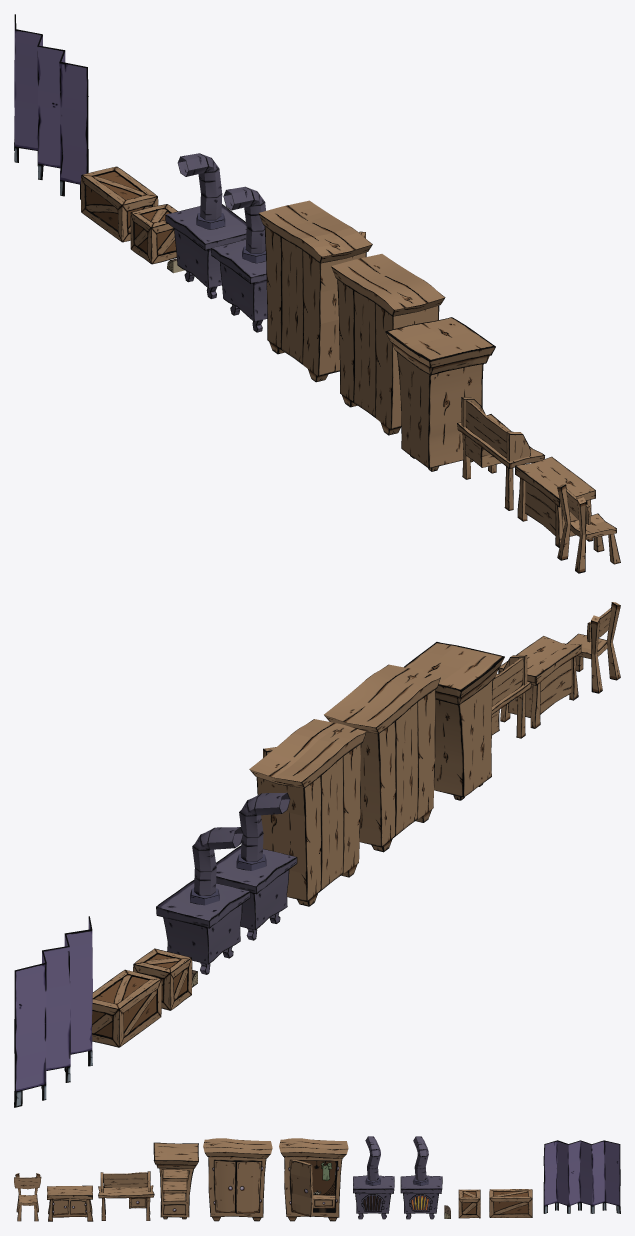
The model's file is Modularne elementy zachód test 2.fbx.
3 renders of one model, top to bottom at view 1: azimuth 30°, elevation 25°; view 2: azimuth 150°, elevation 25°; view 3: azimuth 270°, elevation 25°, orthographic. The views are drawn at different scales.
Visible parts, largest first — view 1: proptrimsheet1.004, proptrimsheet1.003, proptrimsheet1.002, proptrimsheet1.010, proptrimsheet1.007, proptrimsheet1.006, proptrimsheet1.005, proptrimsheet1.001, proptrimsheet1.008, Cube.052, proptrimsheet1.009; view 2: proptrimsheet1.004, proptrimsheet1.003, proptrimsheet1.010, proptrimsheet1.002, proptrimsheet1.007, proptrimsheet1.006, proptrimsheet1.008, proptrimsheet1.001, proptrimsheet1.009, Cube.052, proptrimsheet1.005; view 3: proptrimsheet1.010, proptrimsheet1.003, proptrimsheet1.004, proptrimsheet1.002, proptrimsheet1.007, proptrimsheet1.006, proptrimsheet1.005, proptrimsheet1.001, proptrimsheet1.008, Cube.052, proptrimsheet1.009.
Part boxes in pixels (x1,y1,x2,y2): proptrimsheet1.004: (258,200,372,382); proptrimsheet1.003: (331,254,445,435); proptrimsheet1.002: (385,317,495,471); proptrimsheet1.010: (14,14,88,199); proptrimsheet1.007: (165,153,246,298); proptrimsheet1.006: (211,186,267,332); proptrimsheet1.005: (457,397,544,510); proptrimsheet1.001: (515,456,595,547); proptrimsheet1.008: (80,166,158,242); Cube.052: (557,484,620,573); proptrimsheet1.009: (130,204,177,264); proptrimsheet1.004: (249,719,366,906); proptrimsheet1.003: (324,664,440,852); proptrimsheet1.010: (14,916,92,1107); proptrimsheet1.002: (404,642,504,800); proptrimsheet1.007: (156,827,250,974); proptrimsheet1.006: (216,792,297,940); proptrimsheet1.008: (92,969,161,1047); proptrimsheet1.001: (498,636,581,728); proptrimsheet1.009: (133,948,192,1010); Cube.052: (567,602,620,693); proptrimsheet1.005: (492,655,531,738); proptrimsheet1.010: (543,1140,620,1213); proptrimsheet1.003: (203,1138,272,1221); proptrimsheet1.004: (279,1138,348,1221); proptrimsheet1.002: (153,1142,198,1219); proptrimsheet1.007: (400,1136,442,1219); proptrimsheet1.006: (353,1136,394,1219); proptrimsheet1.005: (98,1171,154,1220); proptrimsheet1.001: (47,1185,93,1221); proptrimsheet1.008: (489,1189,532,1217); Cube.052: (14,1173,41,1221); proptrimsheet1.009: (458,1189,480,1218).
Size of the model in its own units: 160 by 236 by 1822.
